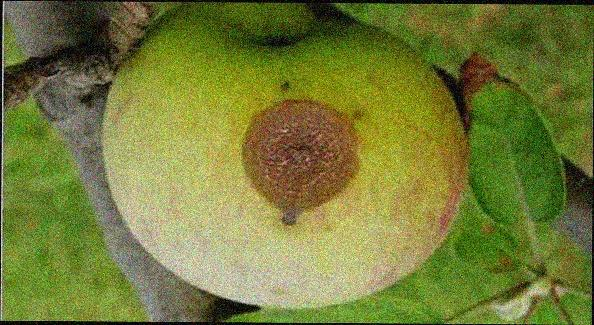rotten apple: (99, 5, 469, 310)
